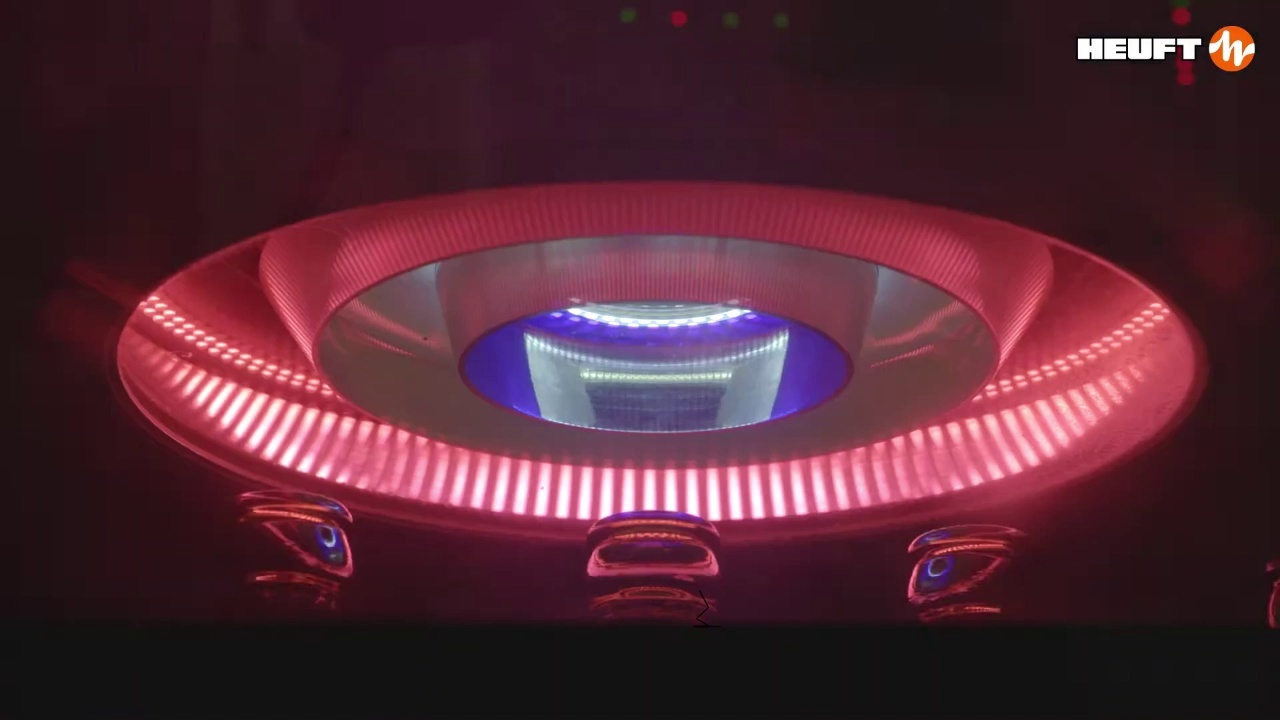bottle: (587, 510, 720, 623)
crack: (693, 590, 720, 626)
